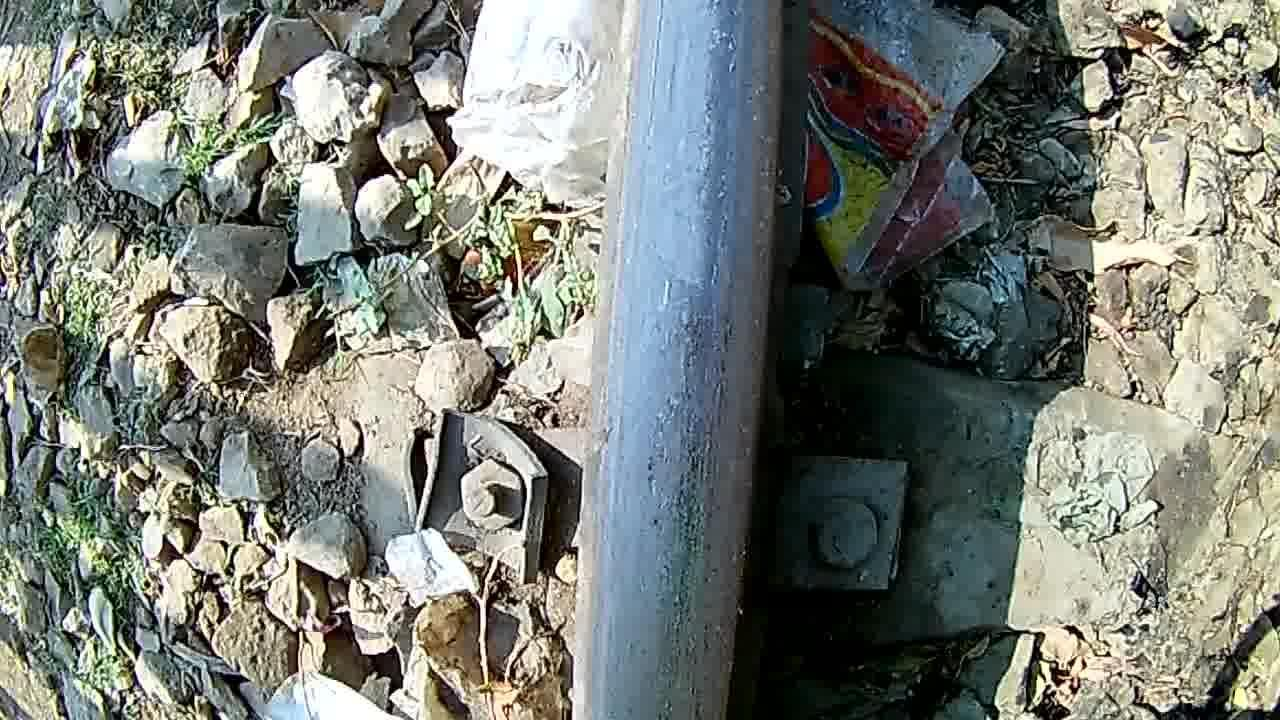crack: (612, 1, 766, 719)
